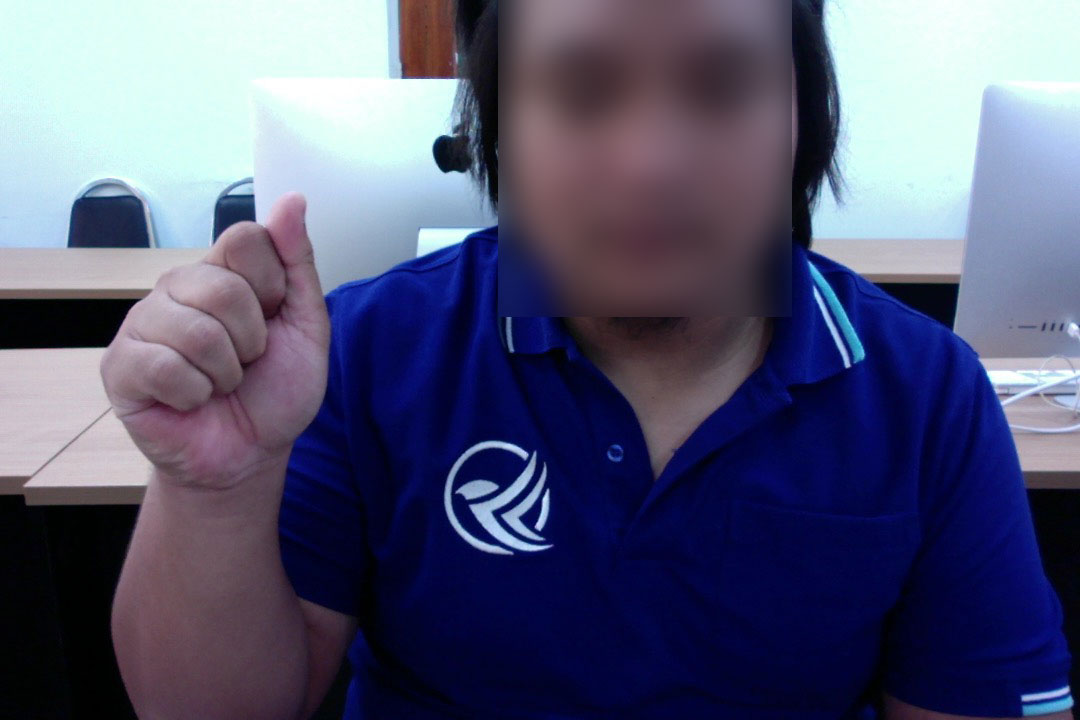or: (86, 177, 343, 504)
